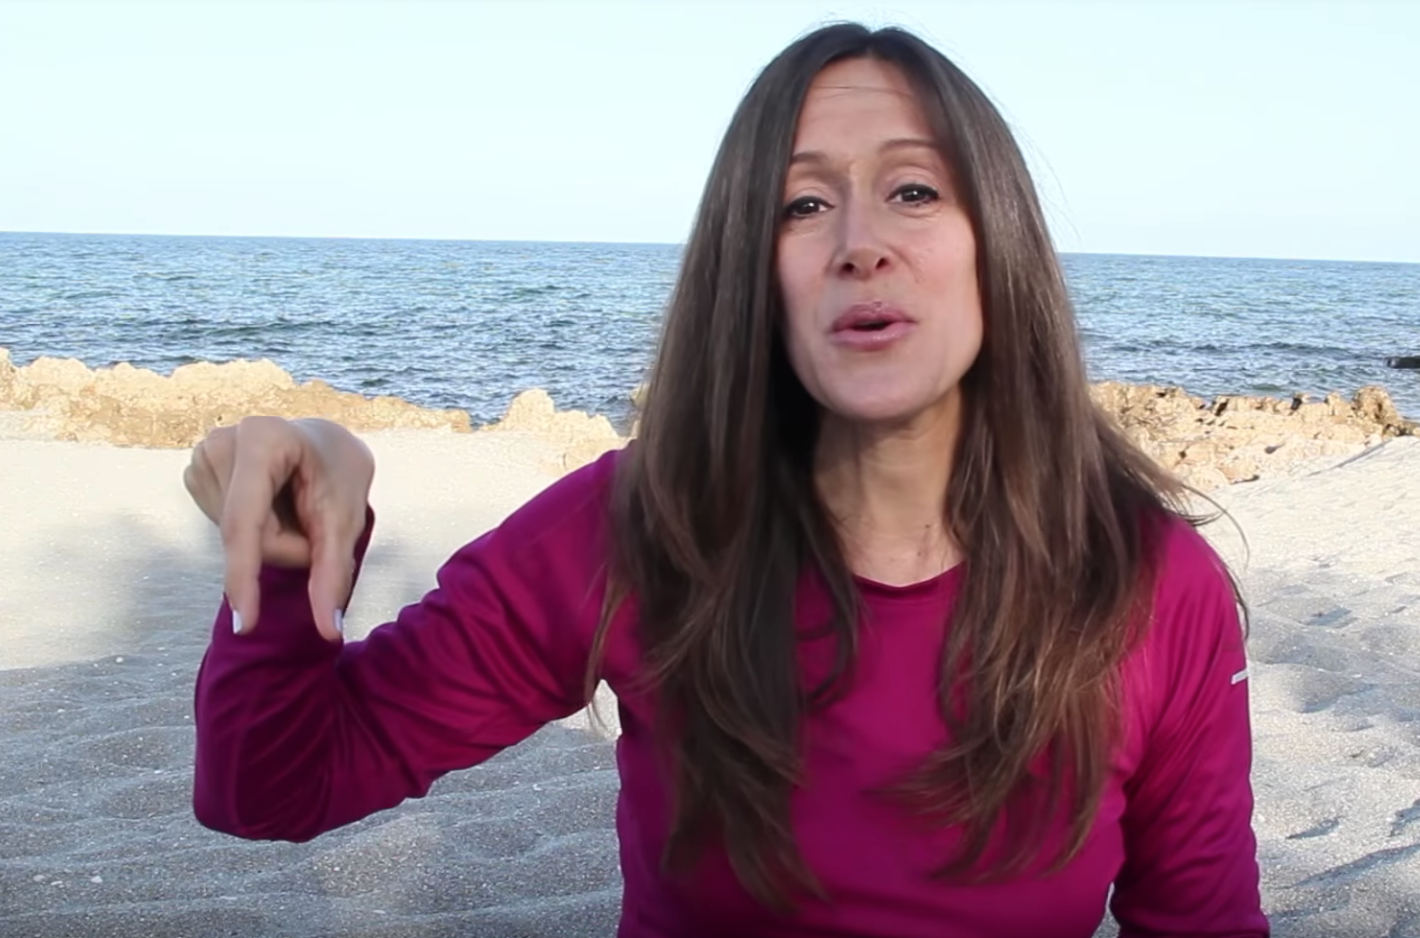q: (162, 394, 393, 703)
